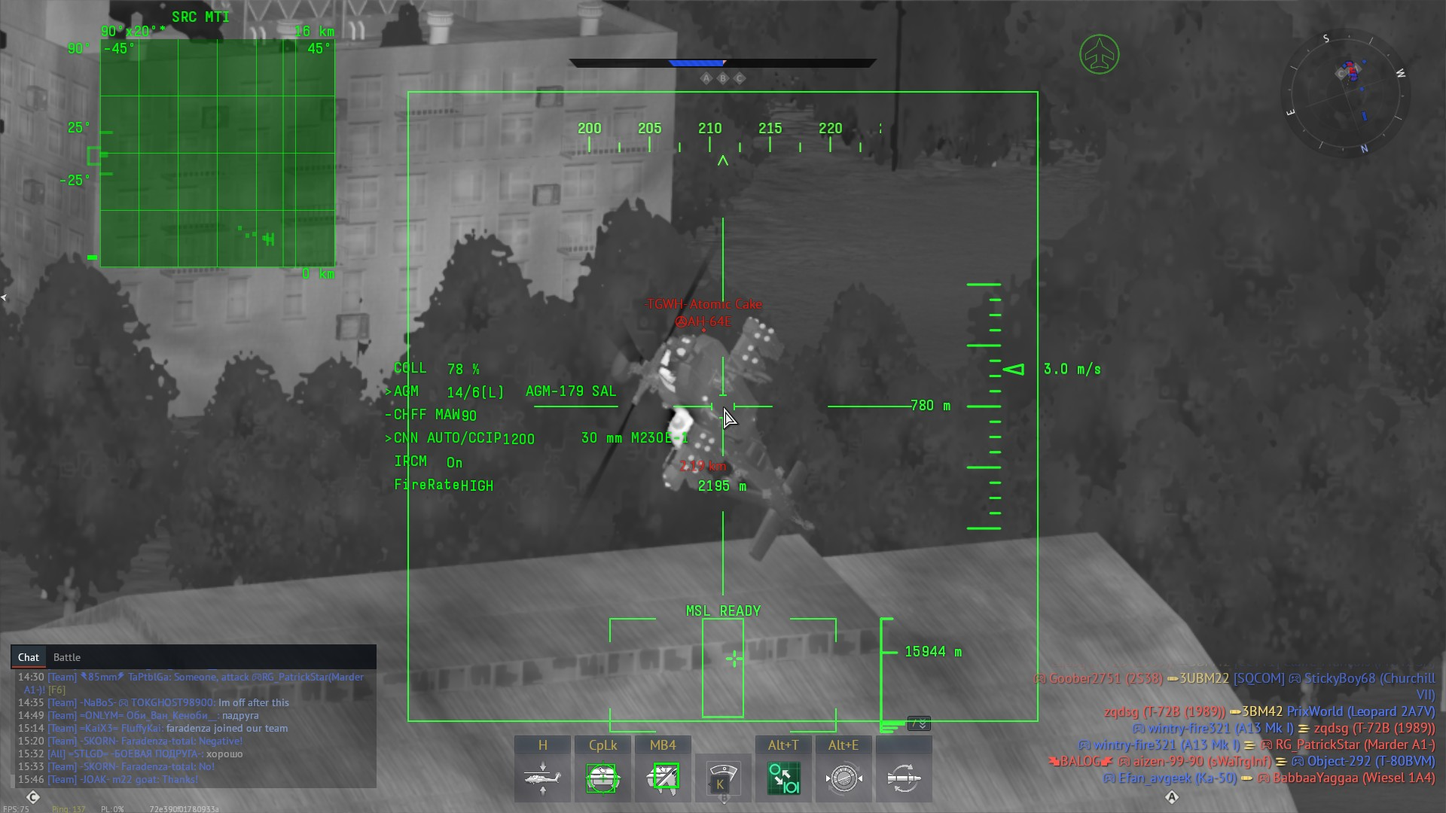ah64: (552, 236, 816, 561)
